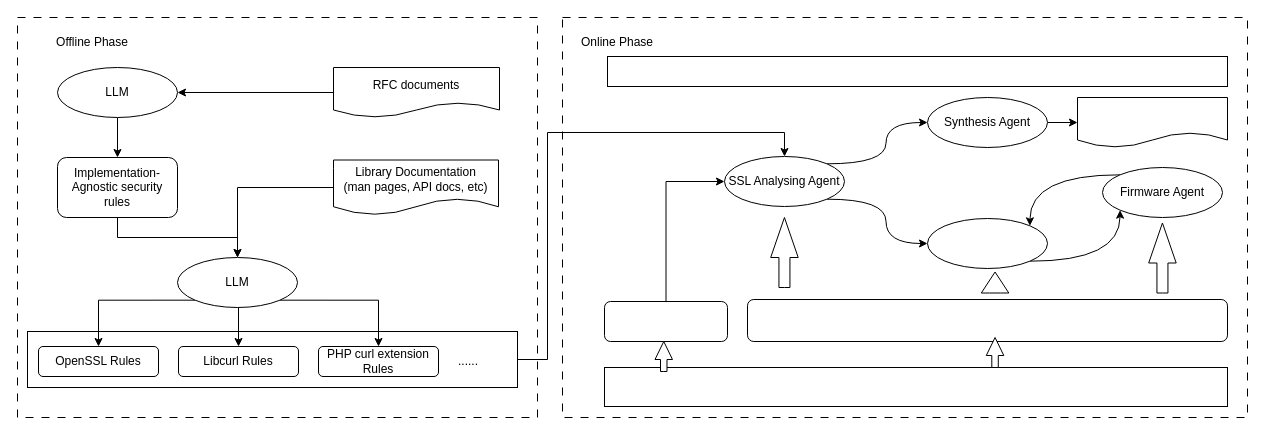
The diagram is 1265 pixels wide and 435 high, and some of its shapes have lost their labels. Here are the shapes that lost their labels. From the top down, the box of each, then its label:
(606, 56, 1228, 86): Shared State Storage
(1076, 96, 1228, 148): Final Report
(926, 218, 1048, 268): Dataflow Agent
(604, 300, 728, 342): Target Discovery
(746, 298, 1228, 342): Static Analysing Engine
(604, 366, 1228, 406): Firmware
